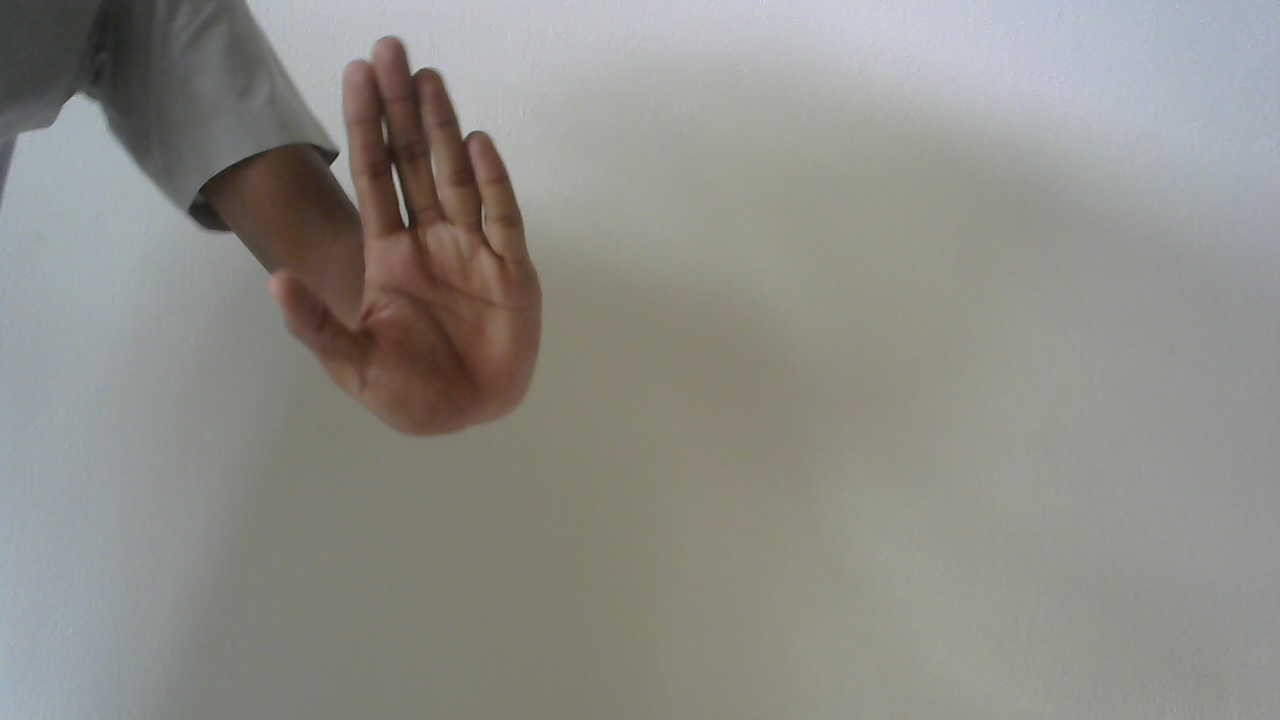hello: (268, 27, 558, 452)
